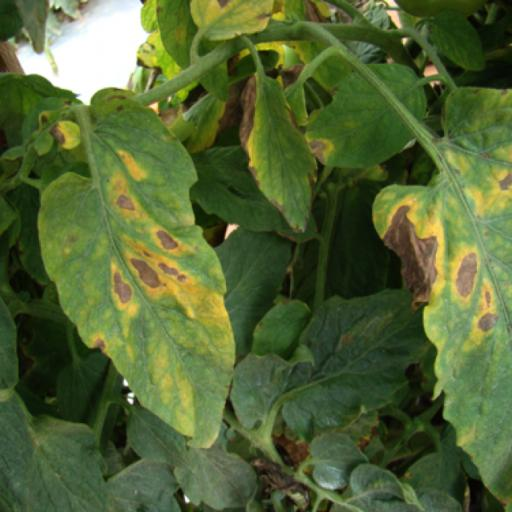Early Blight: (39, 85, 237, 446), (372, 81, 512, 504), (236, 68, 320, 238)
